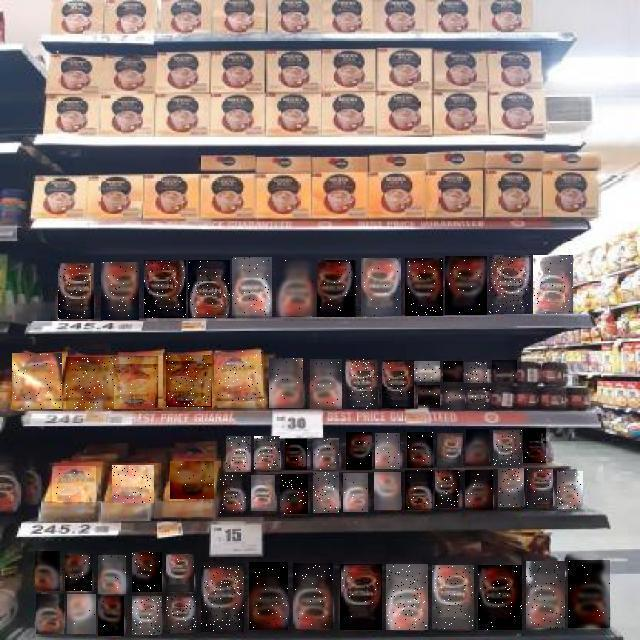Coffee: (214, 350, 264, 408), (478, 565, 522, 630), (568, 560, 610, 628), (201, 566, 244, 632), (12, 353, 62, 409), (340, 565, 382, 631), (386, 565, 428, 631), (432, 565, 474, 629), (249, 562, 288, 630), (293, 563, 333, 629), (526, 561, 565, 628), (114, 356, 162, 409), (66, 357, 114, 409), (166, 356, 212, 410), (489, 255, 531, 314), (445, 256, 487, 315), (188, 260, 230, 318), (145, 260, 187, 318), (233, 258, 273, 318), (533, 255, 573, 314), (361, 258, 401, 316), (276, 259, 316, 317), (318, 260, 358, 317), (405, 258, 443, 316), (101, 262, 139, 320), (58, 263, 94, 319), (269, 358, 303, 408), (171, 461, 215, 499), (345, 359, 378, 409), (310, 359, 342, 409), (112, 465, 154, 503), (53, 466, 97, 502), (383, 361, 415, 409), (133, 553, 163, 593), (132, 596, 162, 635), (67, 594, 96, 634), (36, 594, 64, 634), (465, 470, 493, 510), (405, 470, 433, 510), (280, 474, 308, 514), (166, 596, 196, 633), (99, 555, 127, 594), (313, 472, 339, 513), (166, 554, 194, 592), (493, 431, 522, 467), (36, 551, 62, 591), (98, 596, 124, 636), (374, 472, 401, 510), (498, 468, 524, 507), (346, 432, 372, 470), (527, 470, 553, 508), (436, 470, 462, 508), (557, 471, 583, 509), (220, 475, 246, 513), (343, 473, 368, 512), (65, 555, 92, 591), (407, 432, 433, 468), (376, 433, 402, 469), (251, 476, 275, 514), (226, 436, 251, 472), (437, 433, 463, 467), (255, 436, 281, 470), (466, 429, 489, 466), (313, 438, 339, 470), (523, 428, 546, 463), (286, 438, 310, 470), (467, 387, 491, 411), (414, 362, 440, 384), (492, 360, 517, 382), (418, 386, 440, 410), (443, 387, 465, 411), (464, 362, 487, 383), (443, 362, 463, 384)
